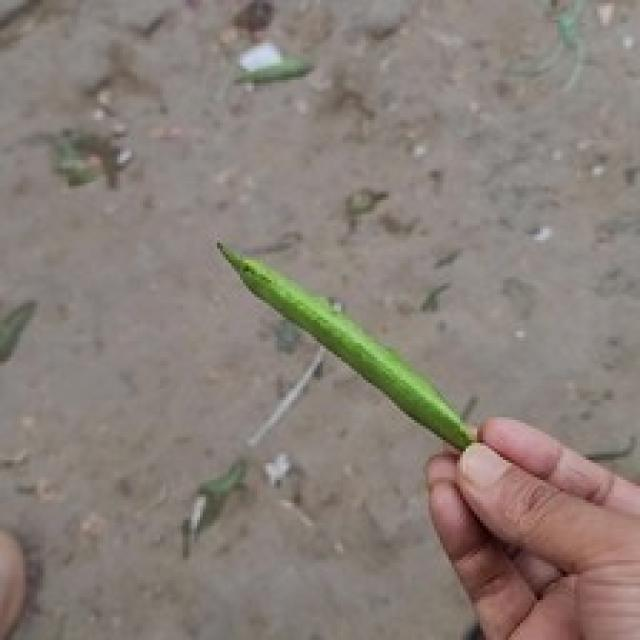Bean: (226, 218, 494, 453)
